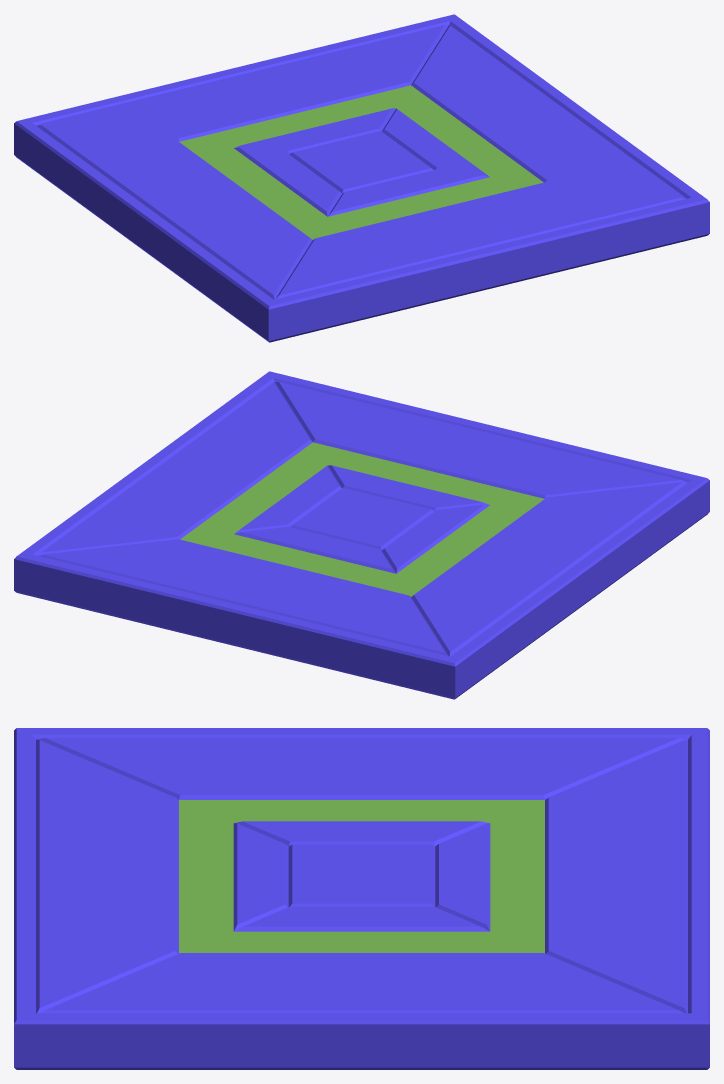
The model's file is Lift_01.FBX.
3 views of the same model, one above another, from view 1: azimuth 30°, elevation 25°; view 2: azimuth 150°, elevation 25°; view 3: azimuth 270°, elevation 25° (orthographic). The views are drawn at different scales.
Visible parts, largest first — view 1: Lift_01; view 2: Lift_01; view 3: Lift_01.
Boxes of the visible parts, <box> form: Lift_01: <box>14,14,709,342</box>; Lift_01: <box>14,371,709,699</box>; Lift_01: <box>14,728,709,1069</box>.
Size of the model in its own units: 3.8 by 0.3 by 3.8.
